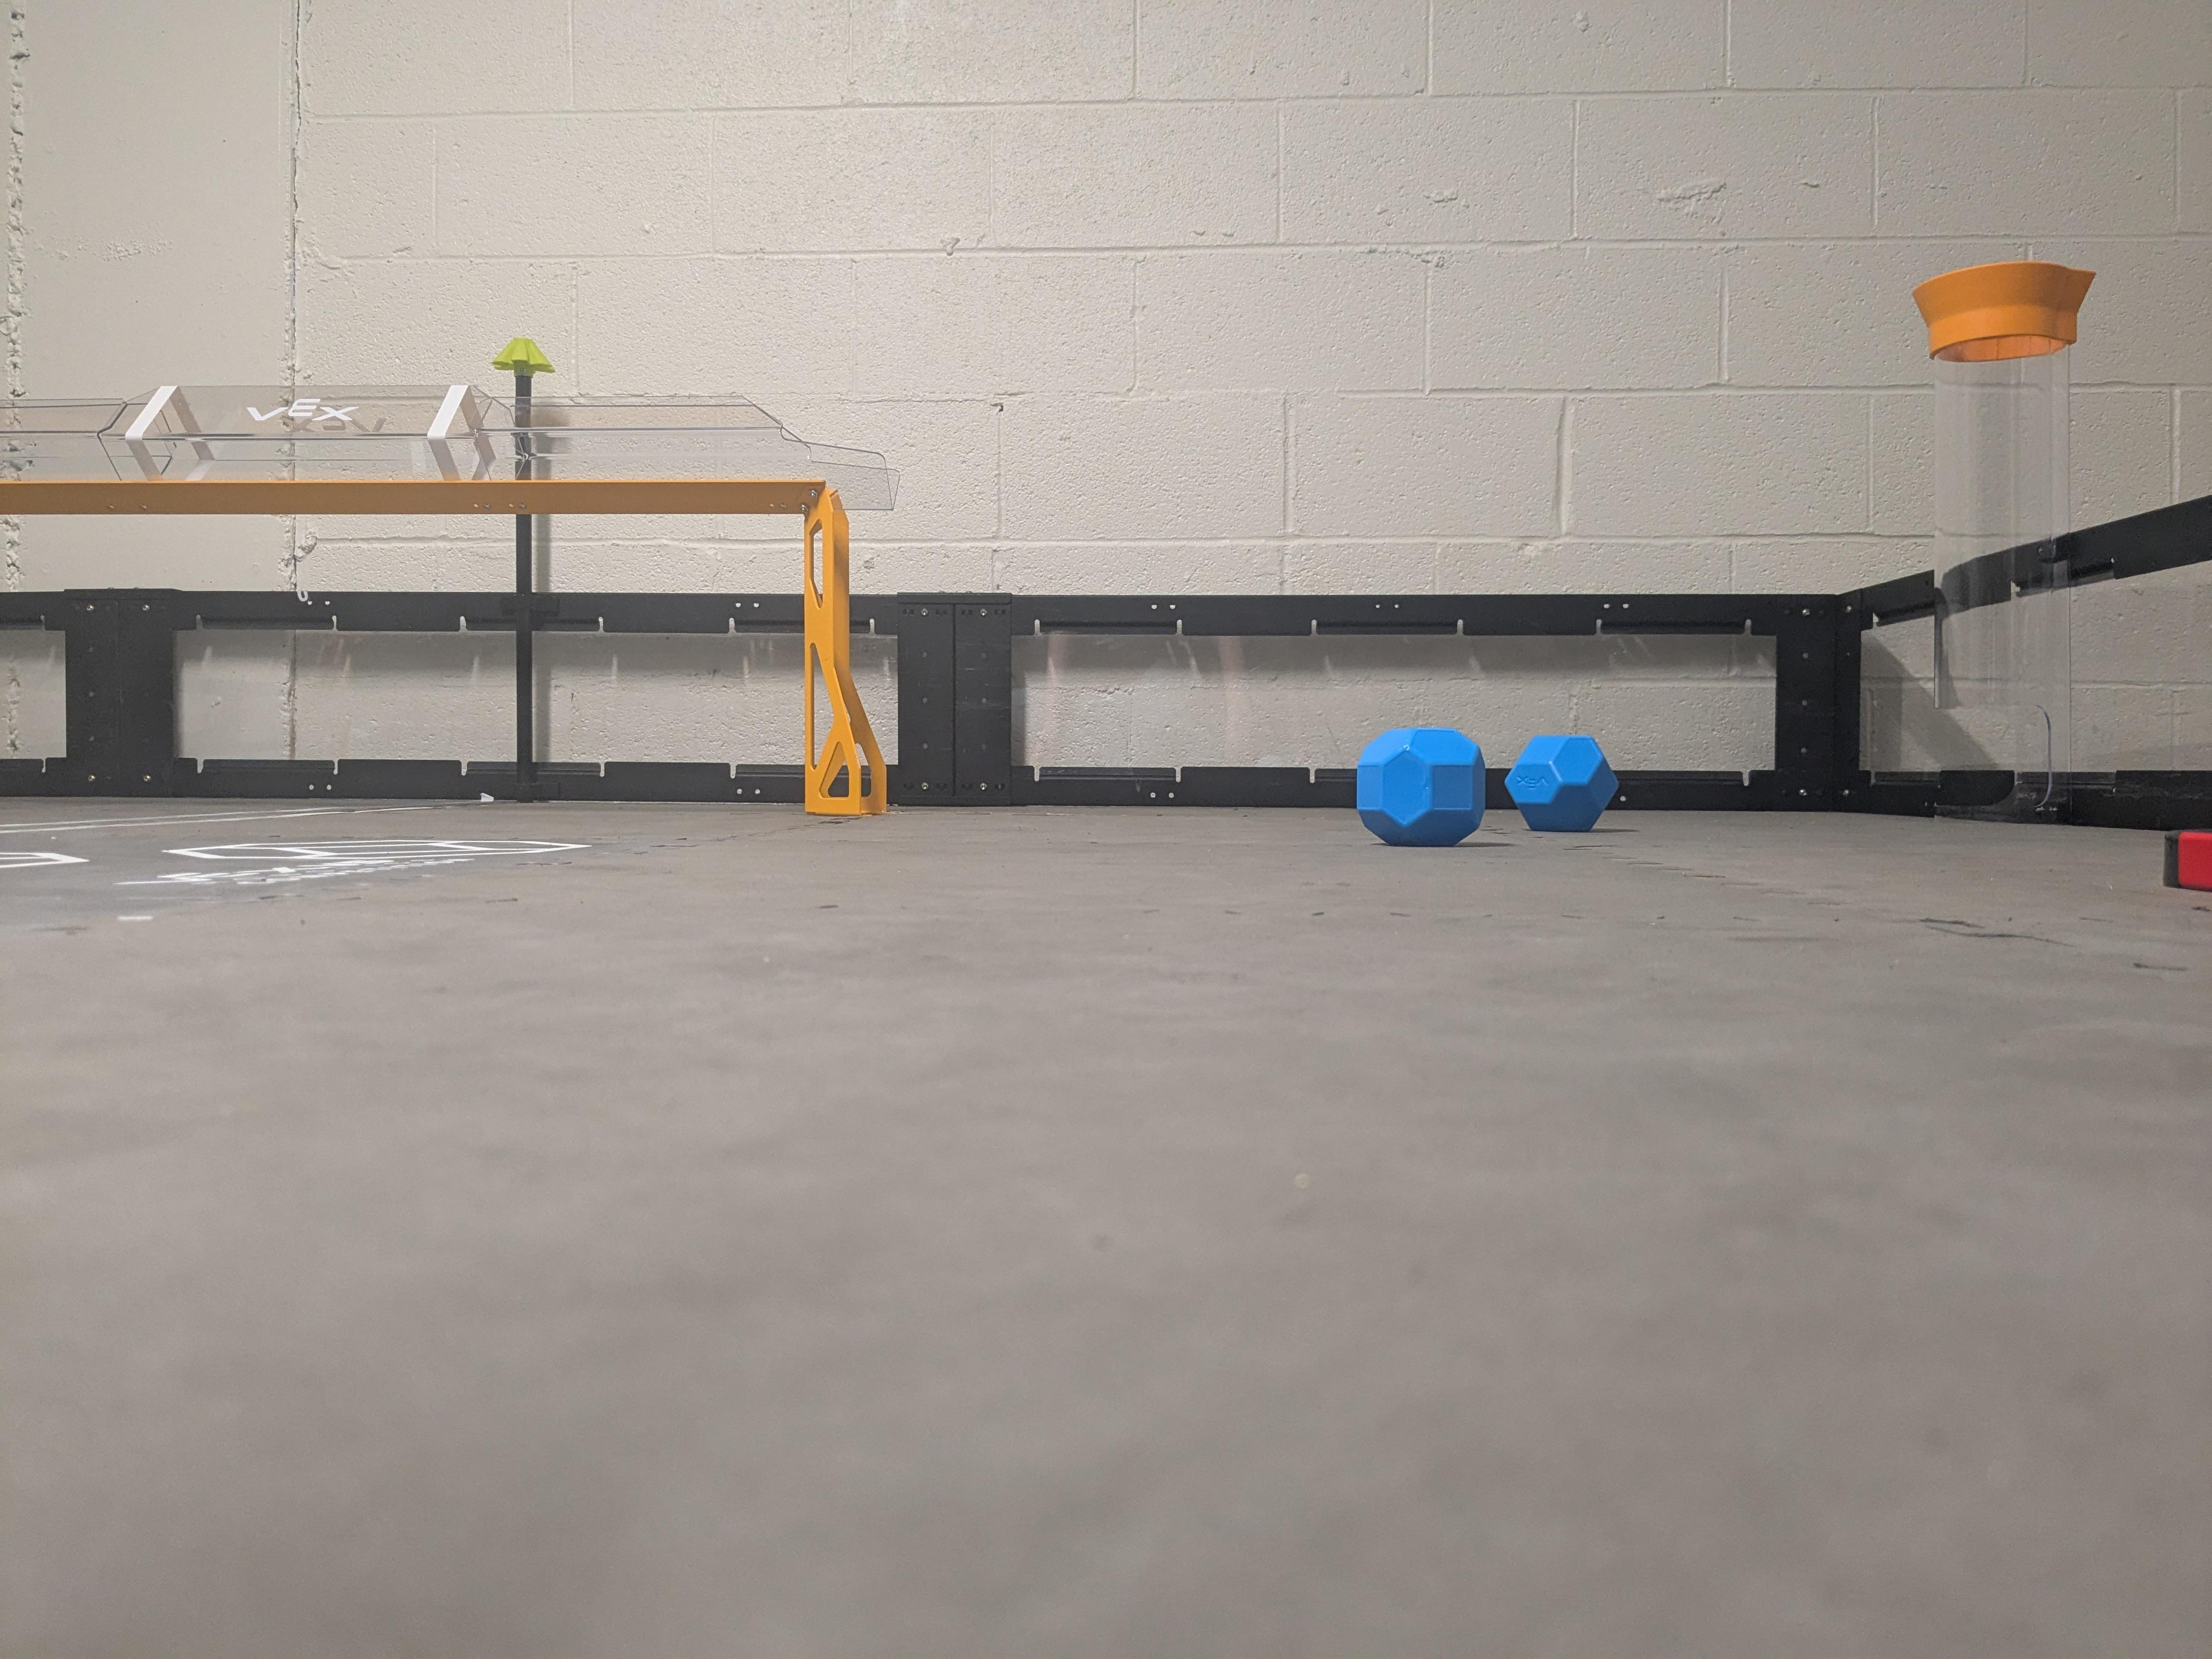Vex-Pieces-BLUE: (1359, 727, 1609, 847)
